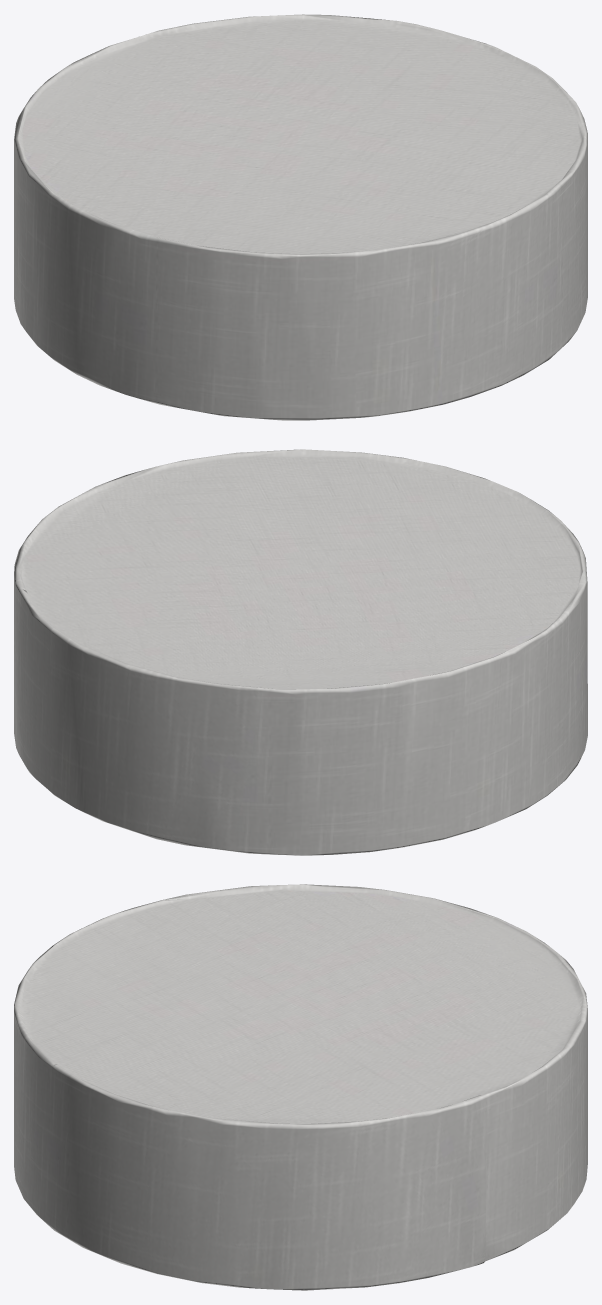
Rendered from spegelrocka_lampa_sufitowa_30634345.glb.
The picture shows the model from 3 angles, top to bottom: view 1: azimuth 30°, elevation 25°; view 2: azimuth 150°, elevation 25°; view 3: azimuth 270°, elevation 25°; orthographic projection.
Visible parts, largest first — view 1: spegelrocka_lampa_sufitowa_30634345; view 2: spegelrocka_lampa_sufitowa_30634345; view 3: spegelrocka_lampa_sufitowa_30634345.
Boxes of the visible parts, box(x1,y1,x2,y2) form: spegelrocka_lampa_sufitowa_30634345: box(14, 14, 587, 420); spegelrocka_lampa_sufitowa_30634345: box(14, 449, 587, 855); spegelrocka_lampa_sufitowa_30634345: box(14, 884, 587, 1290).
Bounding box in the file's own units: 0.4417 × 0.1521 × 0.4416.
2 materials, 2 textured.
